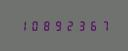eight: (41, 20, 52, 31)
nine: (53, 20, 64, 31)
one: (17, 20, 28, 31)
seven: (101, 20, 112, 31)
six: (89, 20, 100, 31)
three: (77, 20, 88, 31)
two: (65, 20, 76, 31)
zero: (29, 20, 40, 31)
